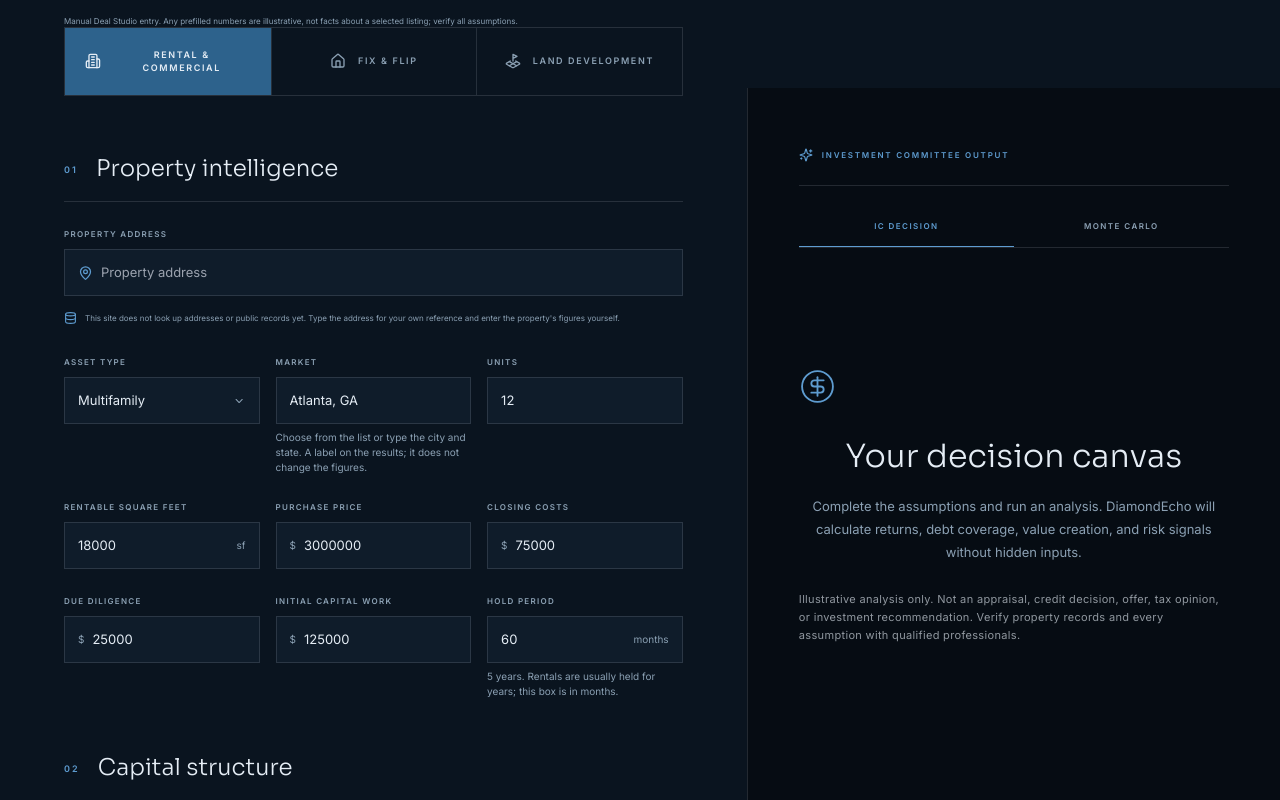
Test: item 4: the market box never picks a market by itself › a market chosen from the list is said, and can be undone
The image size is (1280, 800).
(page scrolled)
Replace the text in the 3rd dropdown with "Au" at (373, 401), box 290,379 -> 457,422
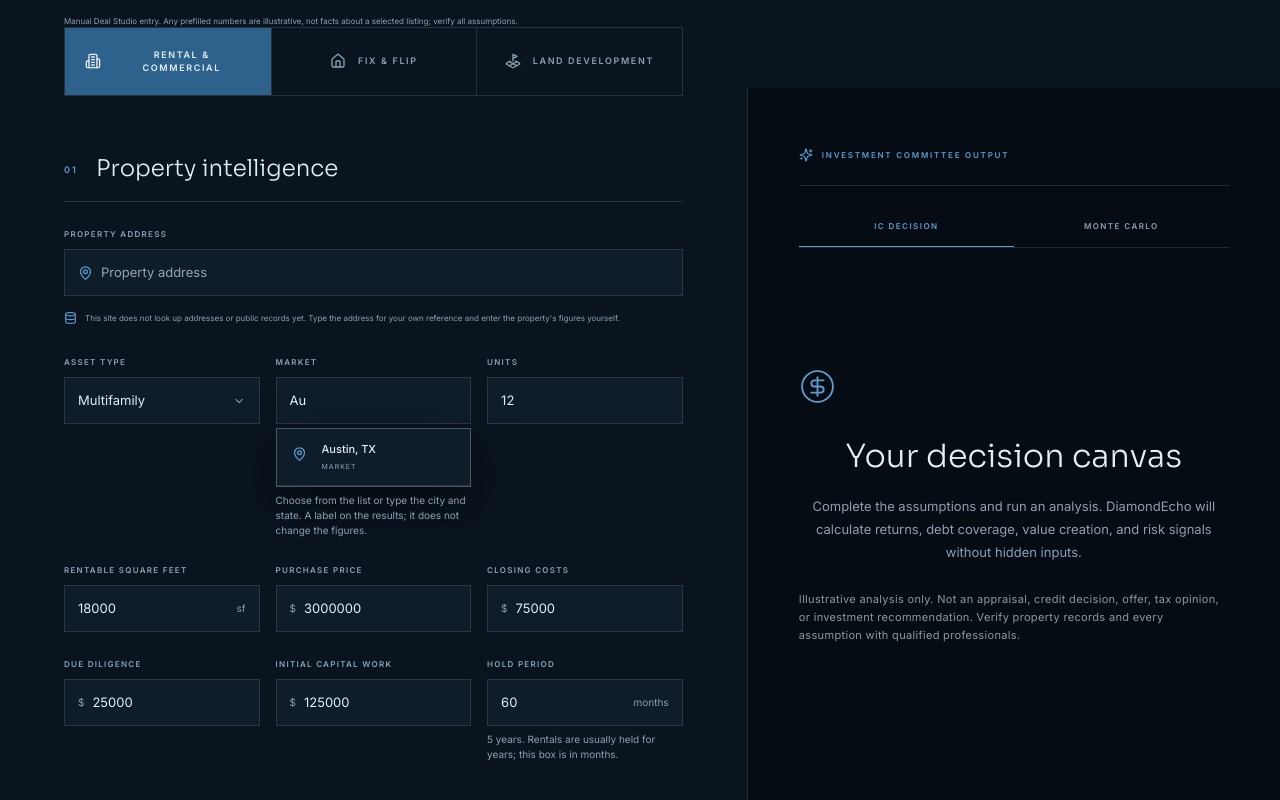
Click the option "Austin, TX Market" at (373, 458), box 276,429 -> 470,486
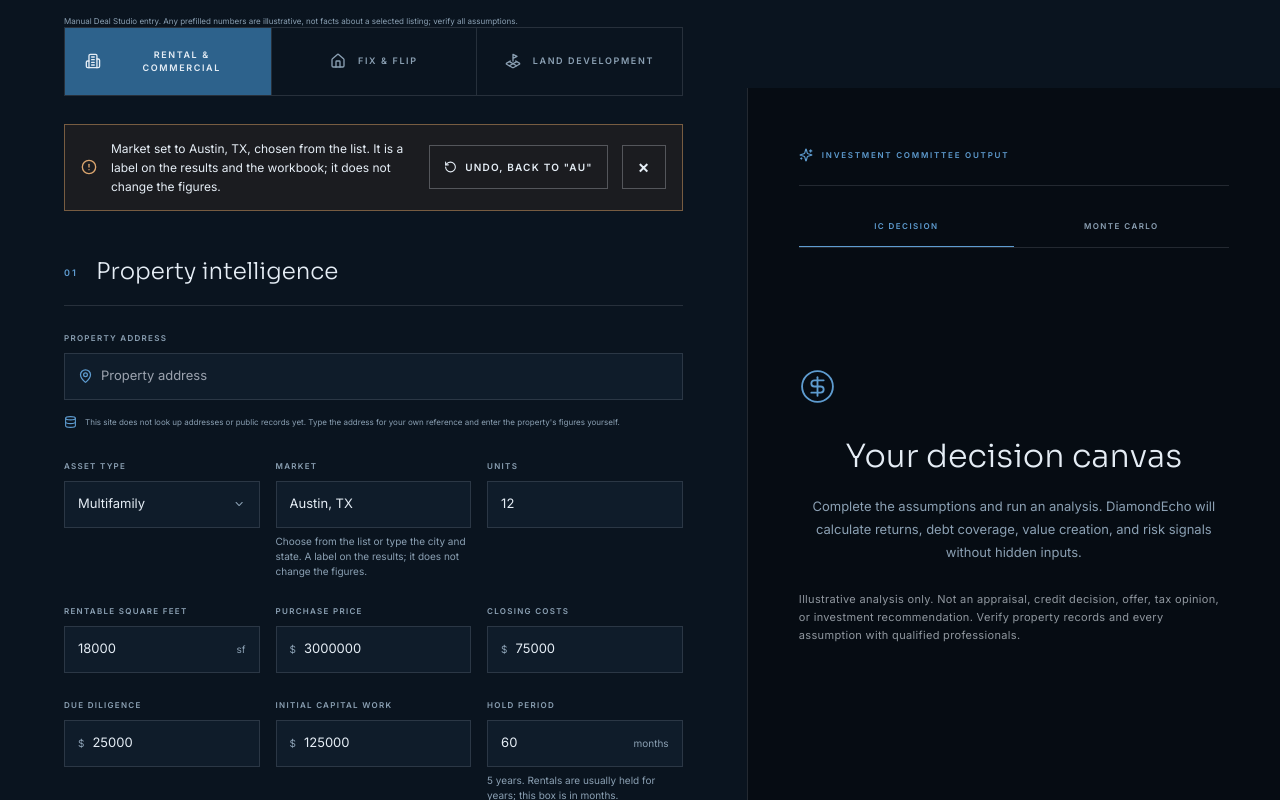
Expected: the text "Market set to Austin, TX, chosen from the list." is shown, 111,141 -> 403,194
Expected: the list with class "studio-suggestions" is gone
Click the button "Undo, back to \"Au\"" at (518, 167), box 429,145 -> 608,189
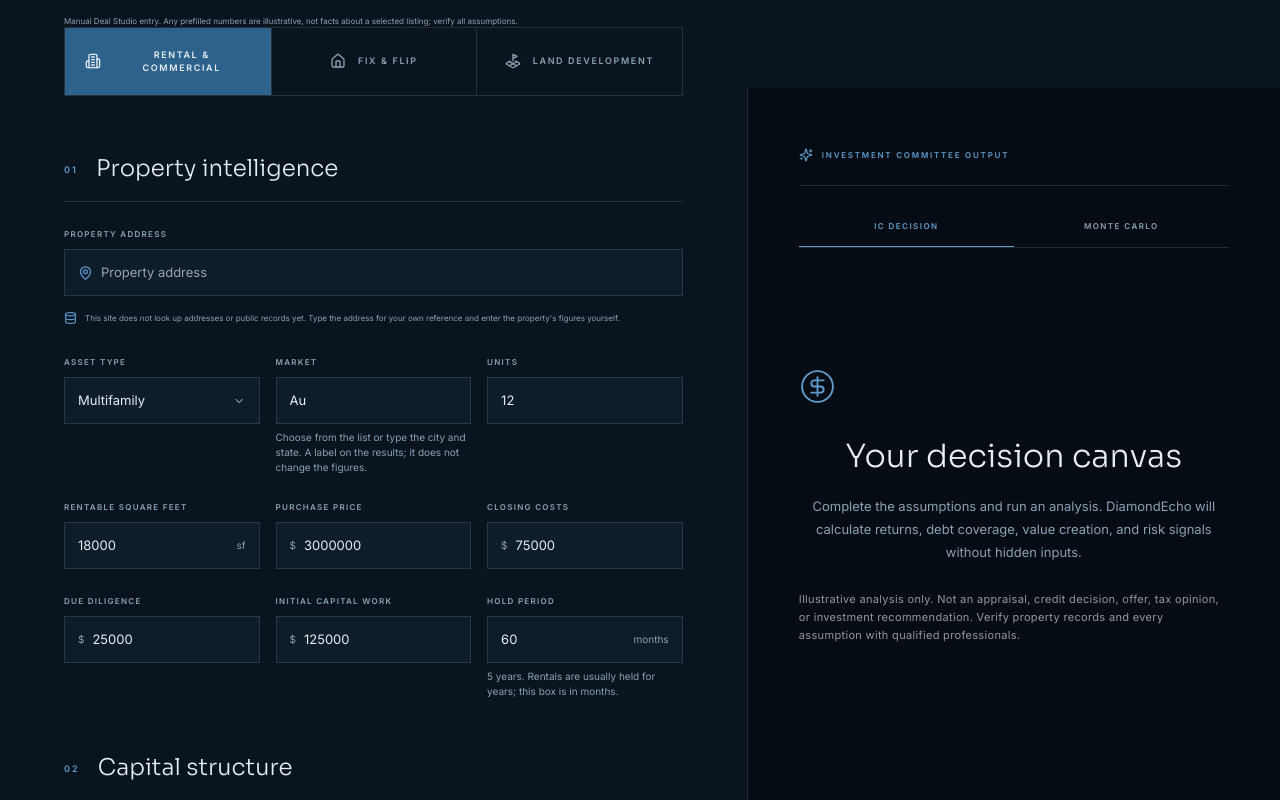
Expected: the message with class "studio-change-notice" is gone
